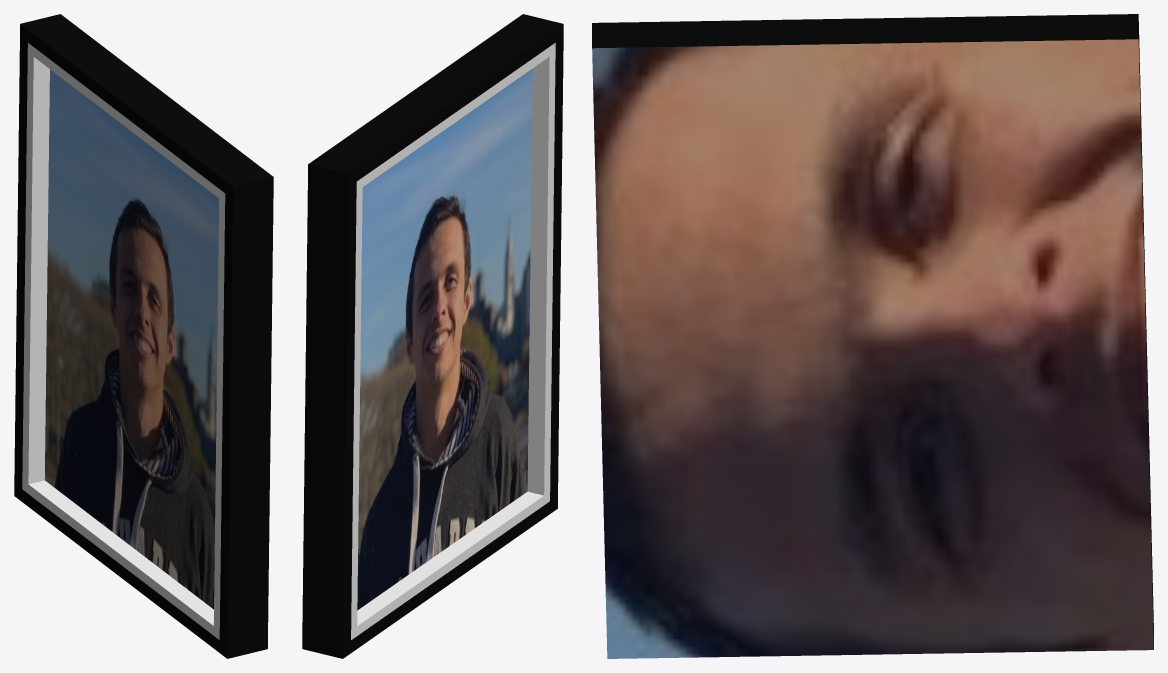
File: mister.glb
The picture shows the model from 3 angles, left to right: view 1: azimuth 30°, elevation 25°; view 2: azimuth 150°, elevation 25°; view 3: azimuth 270°, elevation 25°; orthographic projection. The views are drawn at different scales.
Parts seen in each view (by area): view 1: retrato; view 2: retrato; view 3: retrato.
Part boxes in pixels (x1,y1,x2,y2): retrato: (14, 14, 273, 658); retrato: (302, 14, 563, 658); retrato: (592, 14, 1153, 658).
Size of the model in its own units: 0.359 by 4.1 by 3.37.
3 materials, 1 textured.
